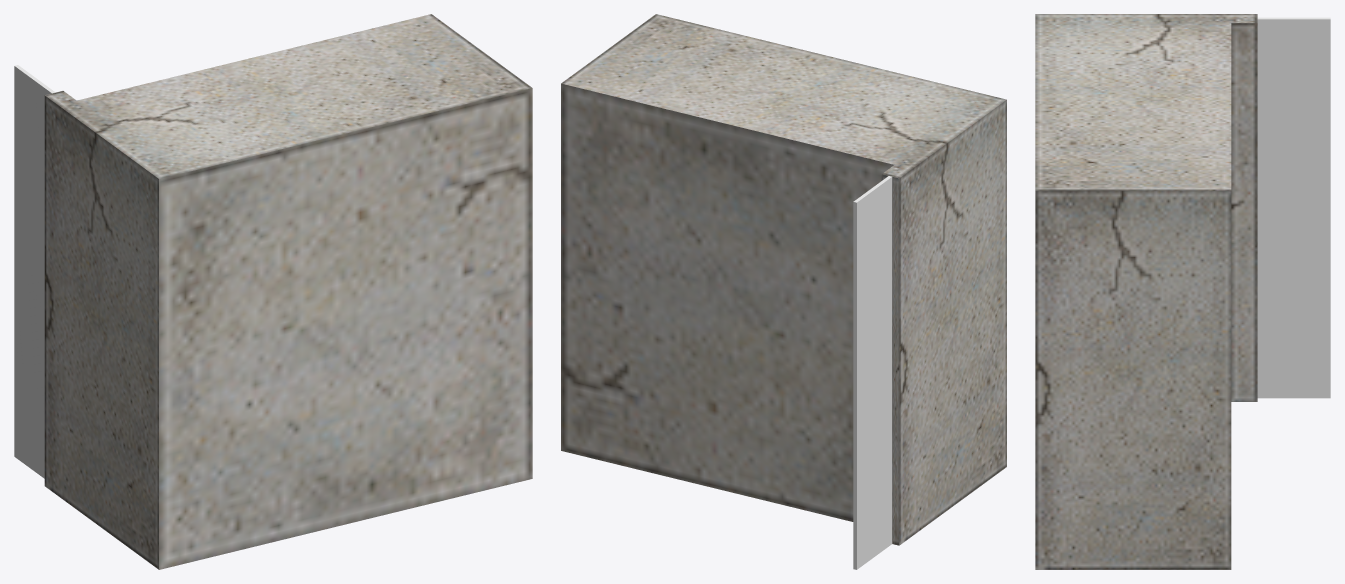
The model's file is SM_SYD_BalconySection.fbx.
The picture shows the model from 3 angles, left to right: view 1: azimuth 30°, elevation 25°; view 2: azimuth 150°, elevation 25°; view 3: azimuth 270°, elevation 25°; orthographic projection. The views are drawn at different scales.
Parts seen in each view (by area): view 1: SM_SYD_BalconySection; view 2: SM_SYD_BalconySection; view 3: SM_SYD_BalconySection.
Part boxes in pixels (left/top/right/bottom): SM_SYD_BalconySection: left=14, top=14, right=532, bottom=569; SM_SYD_BalconySection: left=561, top=14, right=1006, bottom=569; SM_SYD_BalconySection: left=1035, top=14, right=1330, bottom=569.
Bounding box in the file's own units: 400 × 400 × 282.
